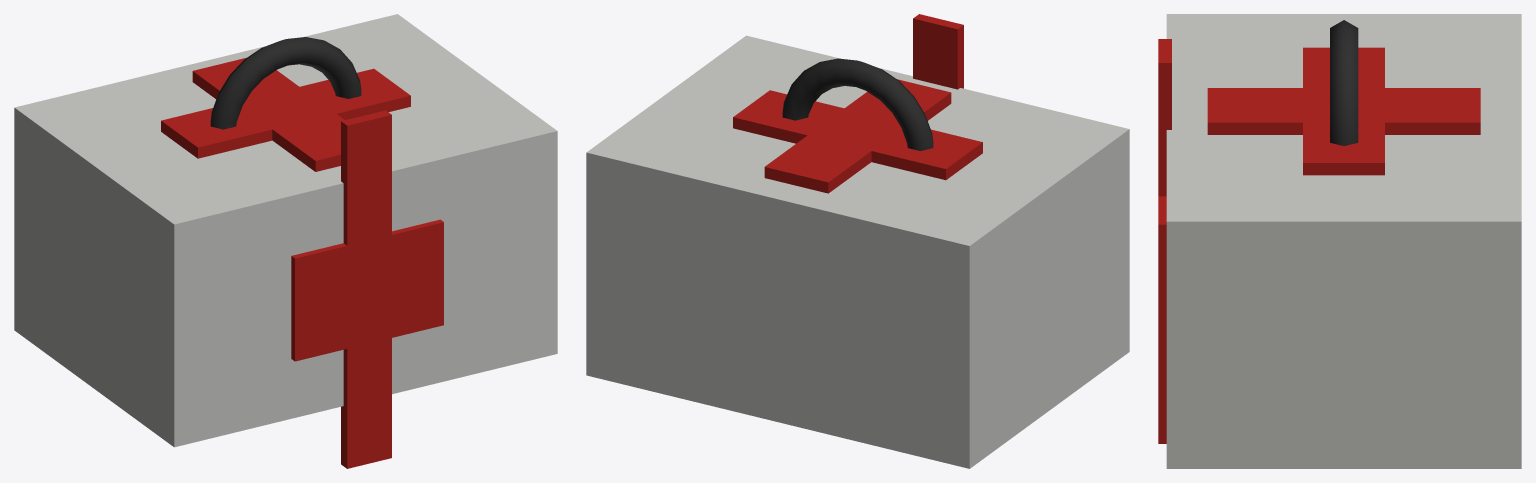
The model's file is medkit.glb.
The picture shows the model from 3 angles, left to right: view 1: azimuth 30°, elevation 25°; view 2: azimuth 150°, elevation 25°; view 3: azimuth 270°, elevation 25°; orthographic projection. The views are drawn at different scales.
Parts seen in each view (by area): view 1: MedkitMesh; view 2: MedkitMesh; view 3: MedkitMesh.
Boxes of the visible parts, x1,y1,x2,y2 form: MedkitMesh: [14, 14, 557, 468]; MedkitMesh: [586, 14, 1129, 468]; MedkitMesh: [1158, 14, 1521, 468].
Size of the model in its own units: 0.36 by 0.326 by 0.266.
